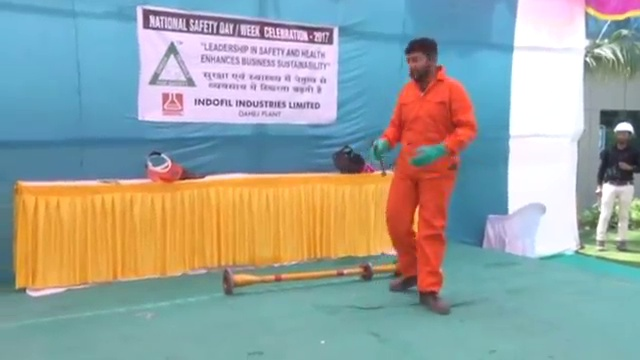helmet: (611, 120, 636, 136)
helmet_off: (405, 38, 438, 81)
helmet_on: (609, 120, 637, 153)
person: (368, 36, 479, 317), (588, 119, 640, 257)
